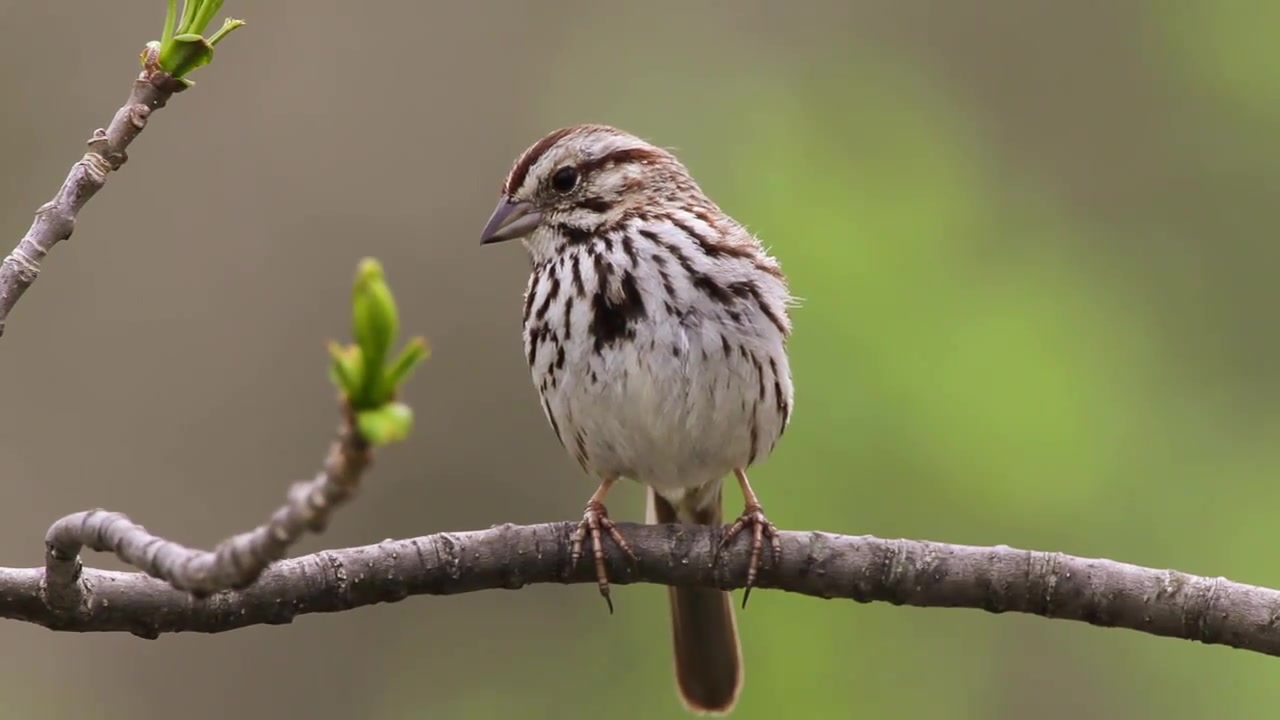bird: (480, 124, 809, 713)
